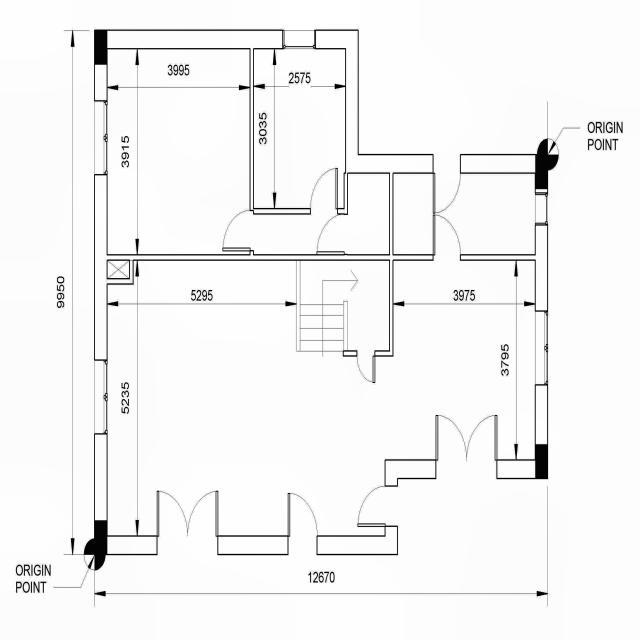Column: (534, 154, 550, 190), (94, 518, 109, 556), (94, 30, 108, 65)
Door: (280, 491, 322, 556), (358, 470, 400, 534), (216, 202, 256, 254), (431, 154, 464, 216), (430, 217, 466, 266), (314, 214, 347, 253), (311, 164, 338, 211), (352, 343, 380, 388), (530, 188, 550, 232), (534, 442, 548, 478)
Double-Door: (146, 481, 222, 559), (428, 403, 500, 482)
Staircase: (296, 258, 389, 351)
Window: (88, 94, 112, 181), (90, 356, 110, 444), (278, 26, 320, 54), (534, 308, 548, 392)
